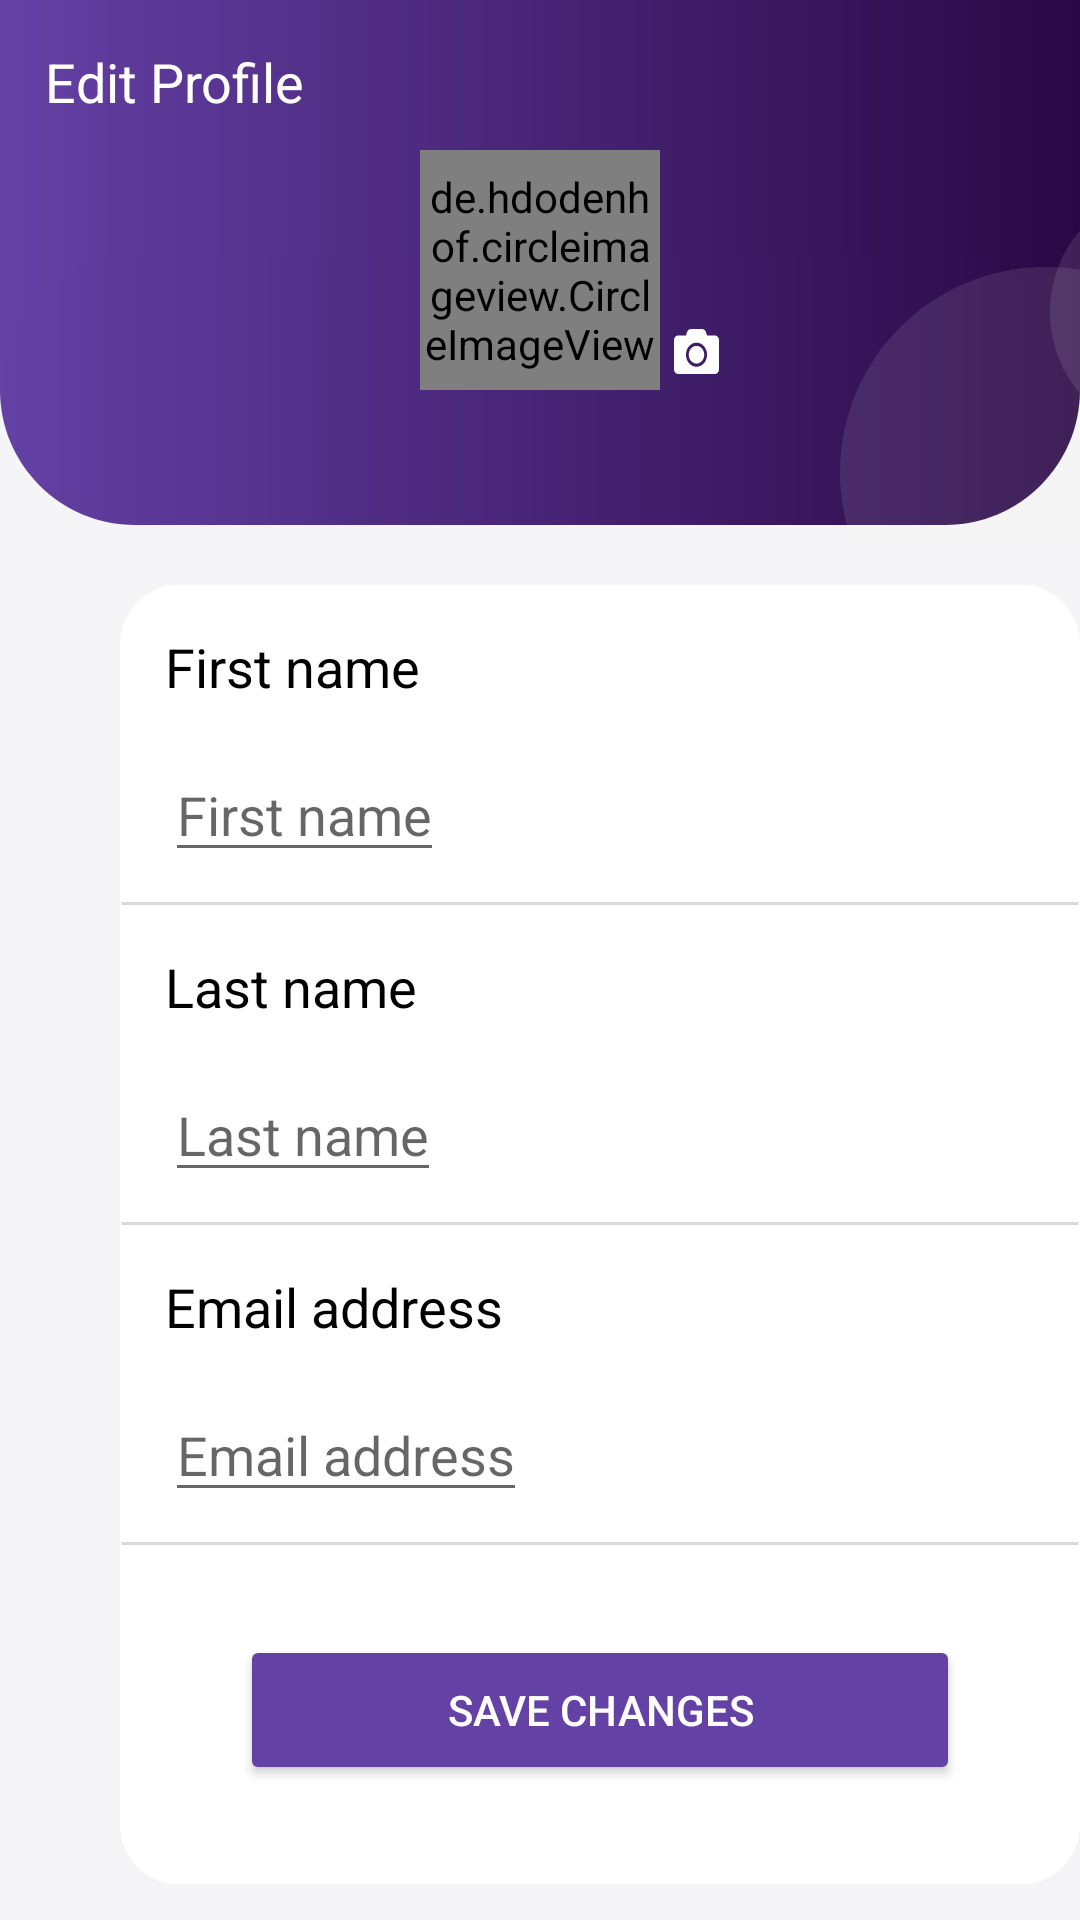

Where icons sit on this 1080*1920 app screen, as (x1, y1, x2, y2):
camera: (674, 329, 719, 374)
